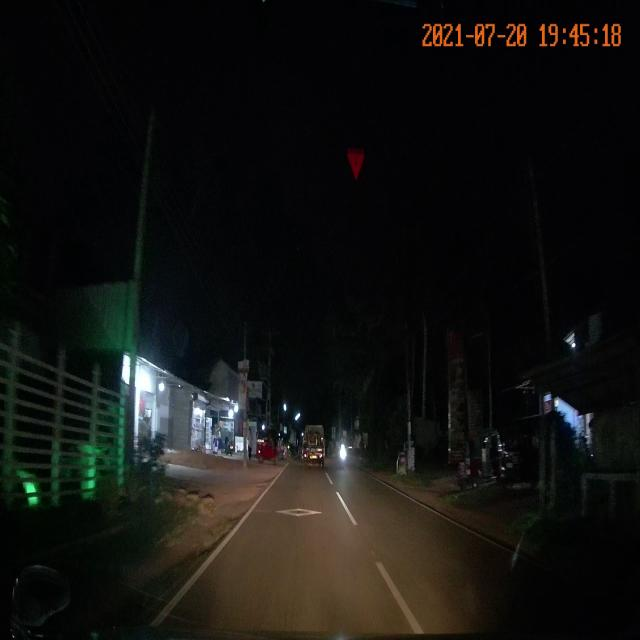diamond: (236, 494, 365, 529)
